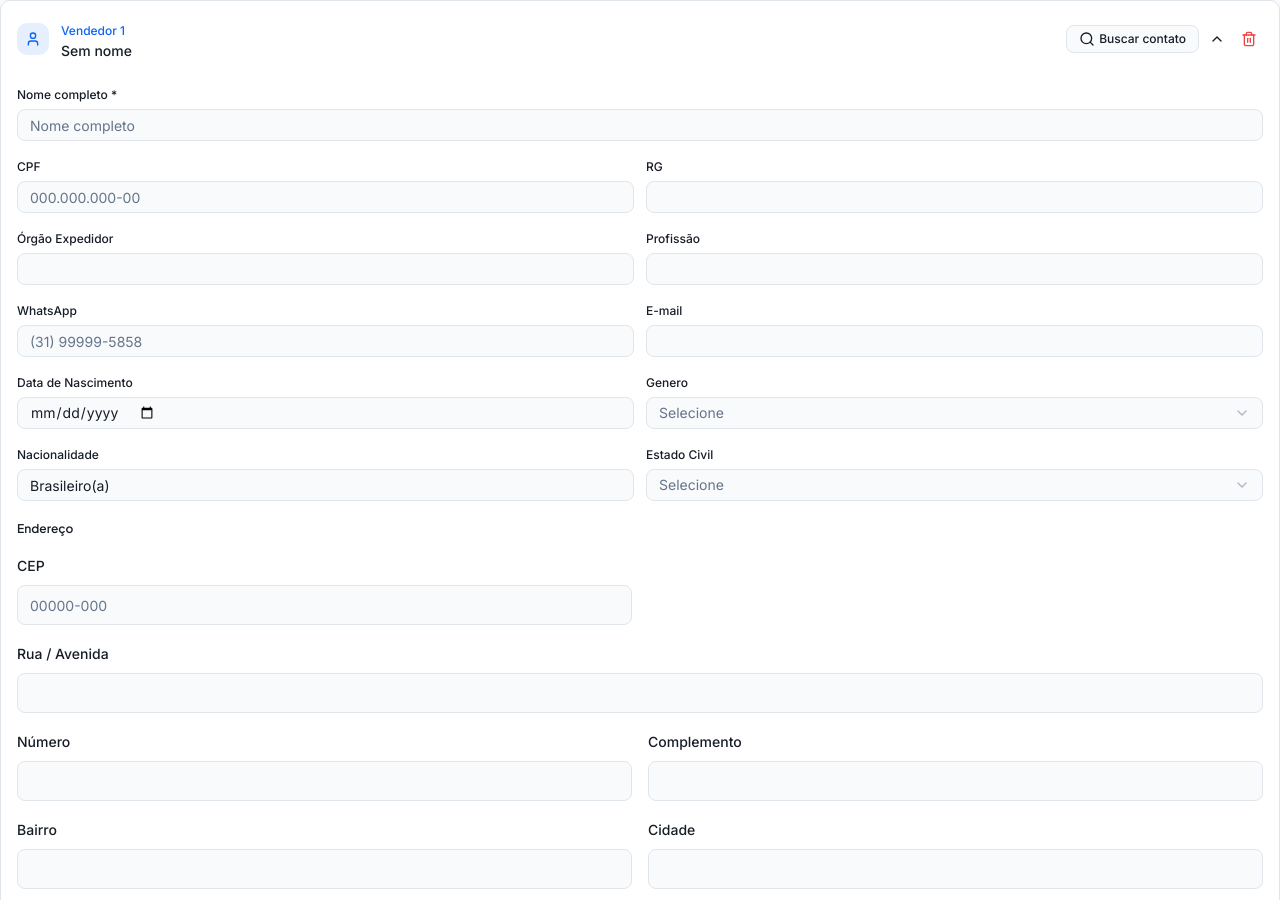
Test: ManualParticipantCard — fillFromContact popula o gênero (binding do Select) › contato legado genero='Feminino' → participant.genero = 'F'
Type "Mari" into the field with placeholder "Nome completo" at coordinates (640, 125), box [17,109,1263,141]
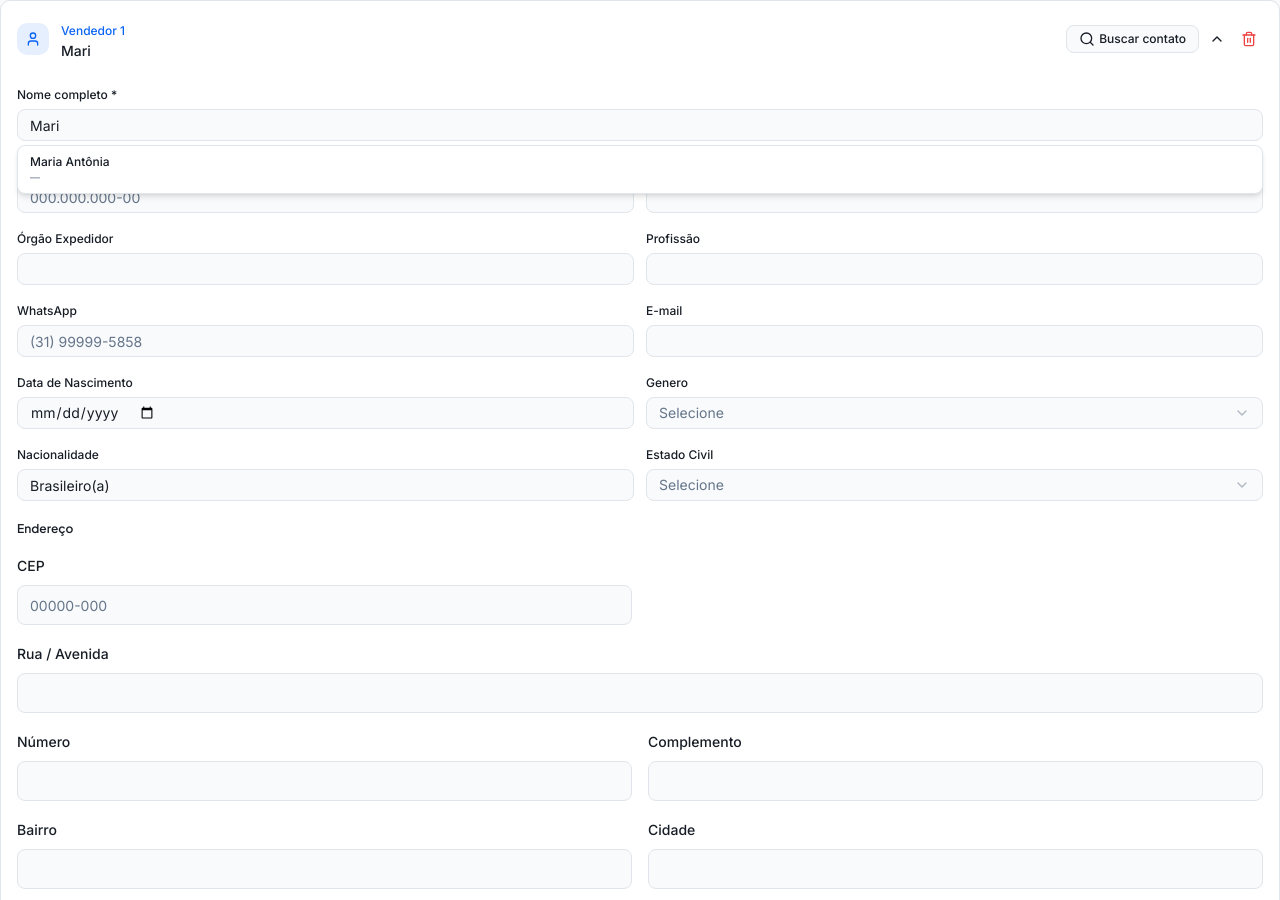
Click the text "Maria Antônia" at coordinates (70, 162), box [30,154,110,169]
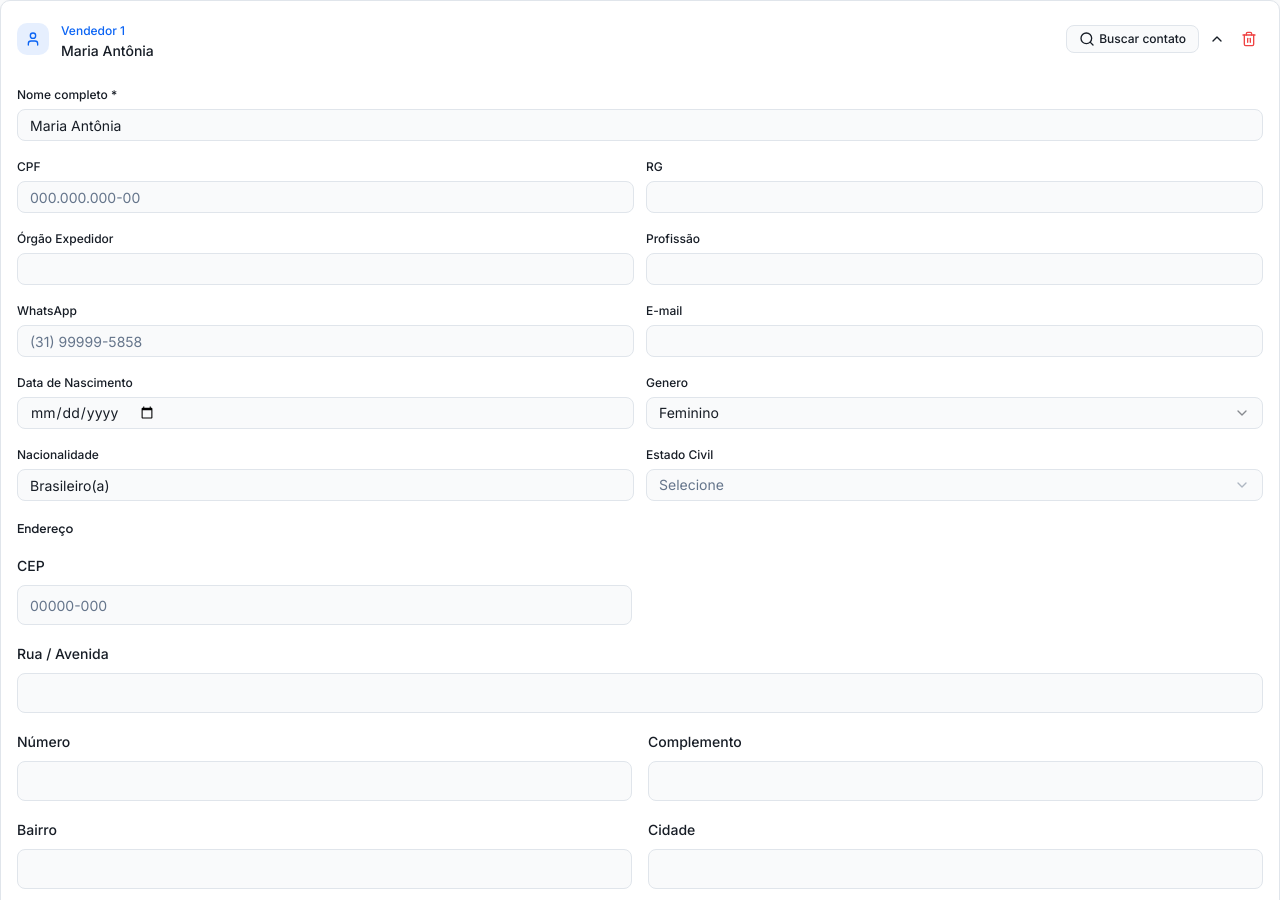
Check: the text "Maria Antônia" is shown, box [61,42,154,59]
